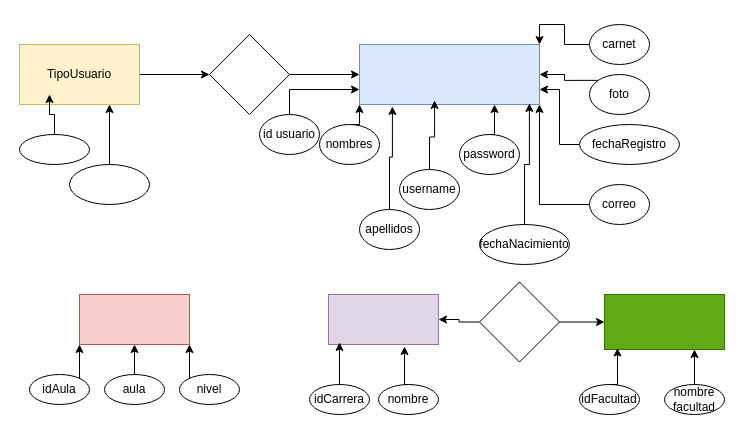
Some shapes in this 742 by 432 pixel diagram are drawn without their labels. Each missing label, with the centre of its shape:
"Aulas" belongs at point (134, 319).
"Carreras" belongs at point (383, 319).
"Facultad" belongs at point (664, 322).
"idTipoUsuario" belongs at point (54, 149).
"nombreTipo" belongs at point (109, 184).
"Usuario" belongs at point (449, 74).
